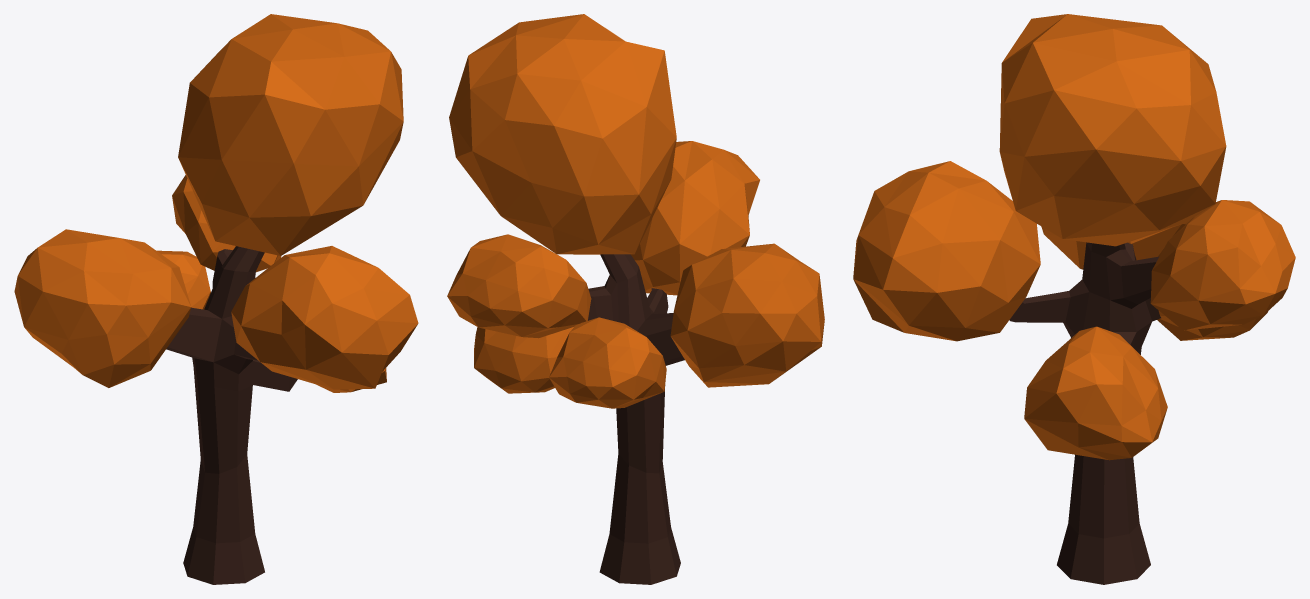
The model's file is MapleTree2.fbx.
The picture shows the model from 3 angles, left to right: view 1: azimuth 30°, elevation 25°; view 2: azimuth 150°, elevation 25°; view 3: azimuth 270°, elevation 25°; orthographic projection. The views are drawn at different scales.
Parts seen in each view (by area): view 1: Cylinder.003; view 2: Cylinder.003; view 3: Cylinder.003.
Boxes of the visible parts, left/top/right/bottom form: Cylinder.003: left=14, top=14, right=418, bottom=584; Cylinder.003: left=447, top=14, right=824, bottom=584; Cylinder.003: left=853, top=14, right=1295, bottom=584.
Size of the model in its own units: 363 by 492 by 343.
